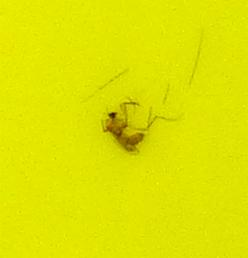Nematocera: (100, 100, 148, 158)
